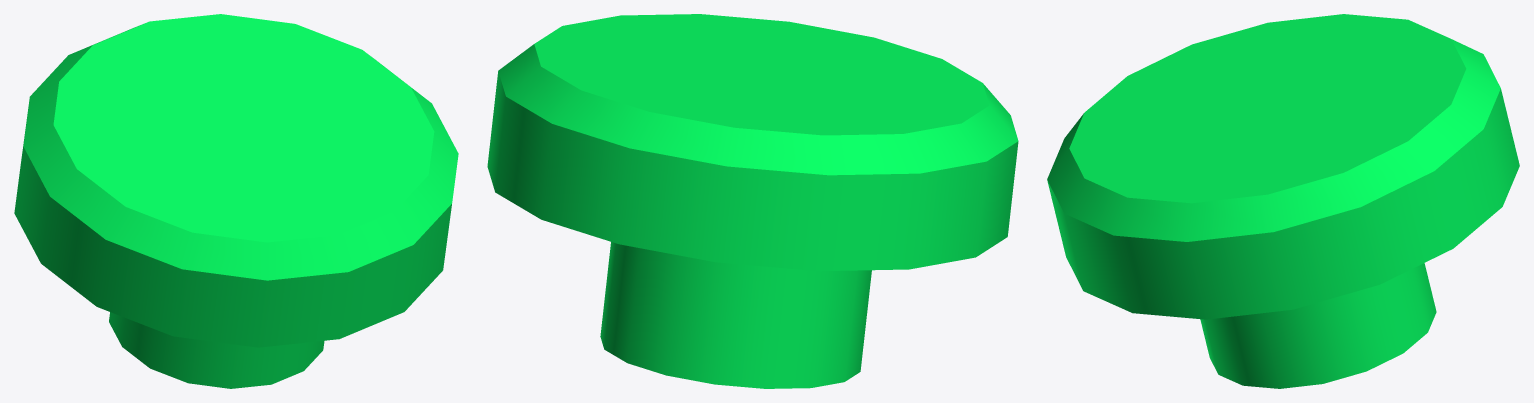
The model's file is greenButt.gltf.
3 renders of one model, left to right at view 1: azimuth 30°, elevation 25°; view 2: azimuth 150°, elevation 25°; view 3: azimuth 270°, elevation 25°, orthographic. The views are drawn at different scales.
Parts seen in each view (by area): view 1: greenButt; view 2: greenButt; view 3: greenButt.
Part boxes in pixels (x1,y1,x2,y2): greenButt: (14,14,458,388); greenButt: (487,14,1018,388); greenButt: (1047,14,1519,388).
Bounding box in the file's own units: 0.8 × 0.5486 × 0.8137.
